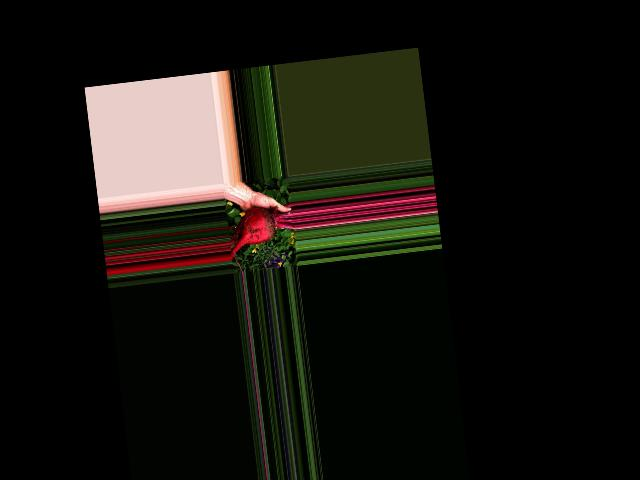beet: (225, 203, 297, 259)
